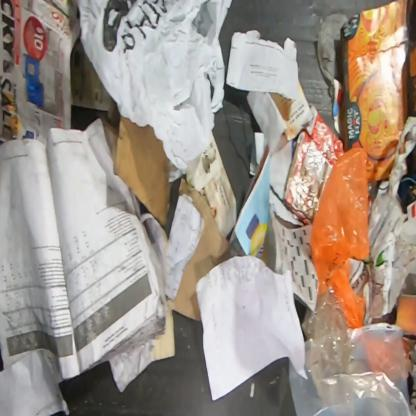cardboard: (339, 0, 416, 183), (164, 178, 230, 321), (112, 115, 178, 228), (284, 102, 344, 226)
soft_plastic: (77, 0, 233, 183), (288, 285, 415, 415), (309, 148, 371, 330), (362, 116, 415, 327)
